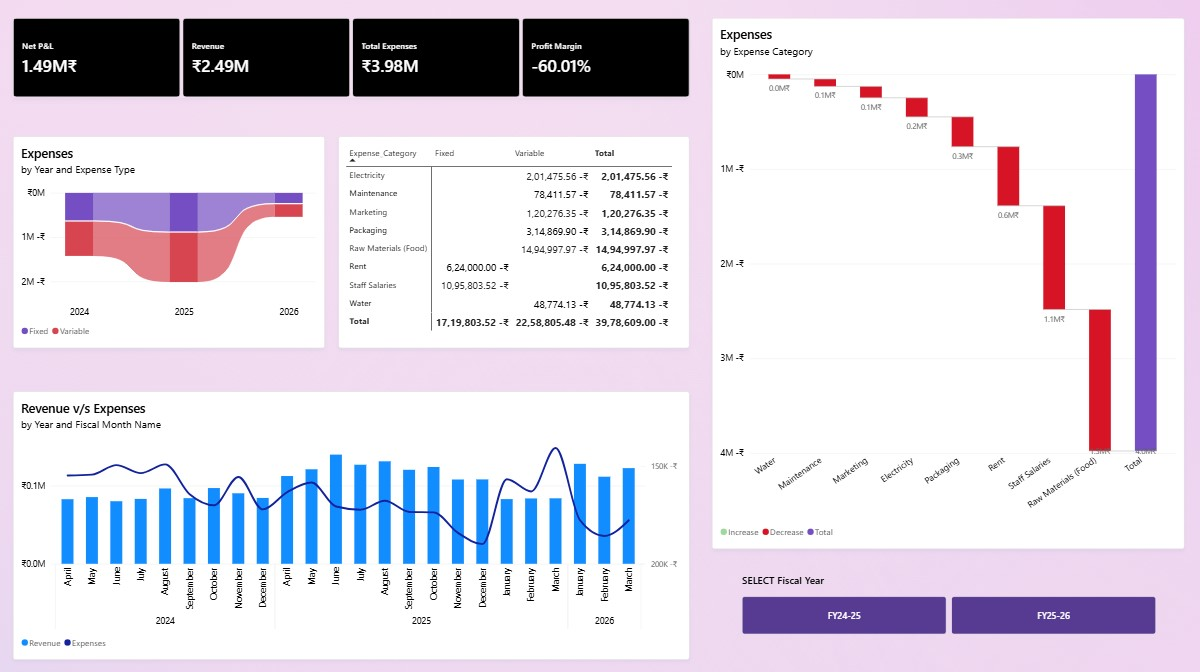

This screenshot's page, from the dashboard's own definition file:
{"tool":"powerbi","page":{"name":"Expenses","canvas":[1920,1080],"ordinal":2},"visuals":[{"type":"cardVisual","fields":{"Data":["Key Measures Table.Net Profit","Key Measures Table.Revenue","Sum(Expenses.Amount)","Key Measures Table.Profit Margin"]},"box":[28.6,33.4,1076.1,126.6],"z":0},{"type":"waterfallChart","fields":{"Category":["Expenses.Expense_Category"],"Y":["Key Measures Table.Expenses"]},"box":[1140.5,33.4,751.6,844.6],"z":1000},{"type":"pivotTable","fields":{"Columns":["Expenses.Expense_Type"],"Rows":["Expenses.Expense_Category"],"Values":["Key Measures Table.Expenses"]},"box":[546.4,221.9,558.3,336.4],"z":2000},{"type":"lineStackedColumnComboChart","fields":{"Category":["DimDate.Year","DimDate.FiscalMonthName"],"Y":["Key Measures Table.Revenue"],"Y2":["Key Measures Table.Expenses"]},"box":[28.1,628.3,1076.1,426.7],"z":3000},{"type":"ribbonChart","fields":{"Category":["DimDate.Year"],"Series":["Expenses.Expense_Type"],"Y":["Key Measures Table.Expenses"]},"box":[28.6,221.9,496.3,336.4],"z":4000},{"type":"advancedSlicerVisual","fields":{"Values":["DimDate.FiscalYear"]},"box":[1188.2,916.2,658.5,97.8],"z":5000}]}

Visuals, with their boxes in screenshot pixels (x1, y1, x2, y2), scaled from the page's 1920x1080 canvas onto the 1200x672 screenshot:
cardVisual - Key Measures Table.Net Profit x Key Measures Table.Revenue: box(18, 21, 690, 100)
waterfallChart - Expenses.Expense_Category x Key Measures Table.Expenses: box(713, 21, 1183, 546)
pivotTable - Expenses.Expense_Type x Expenses.Expense_Category: box(342, 138, 690, 347)
lineStackedColumnComboChart - DimDate.Year x DimDate.FiscalMonthName: box(18, 391, 690, 656)
ribbonChart - DimDate.Year x Expenses.Expense_Type: box(18, 138, 328, 347)
advancedSlicerVisual - DimDate.FiscalYear: box(743, 570, 1154, 631)
